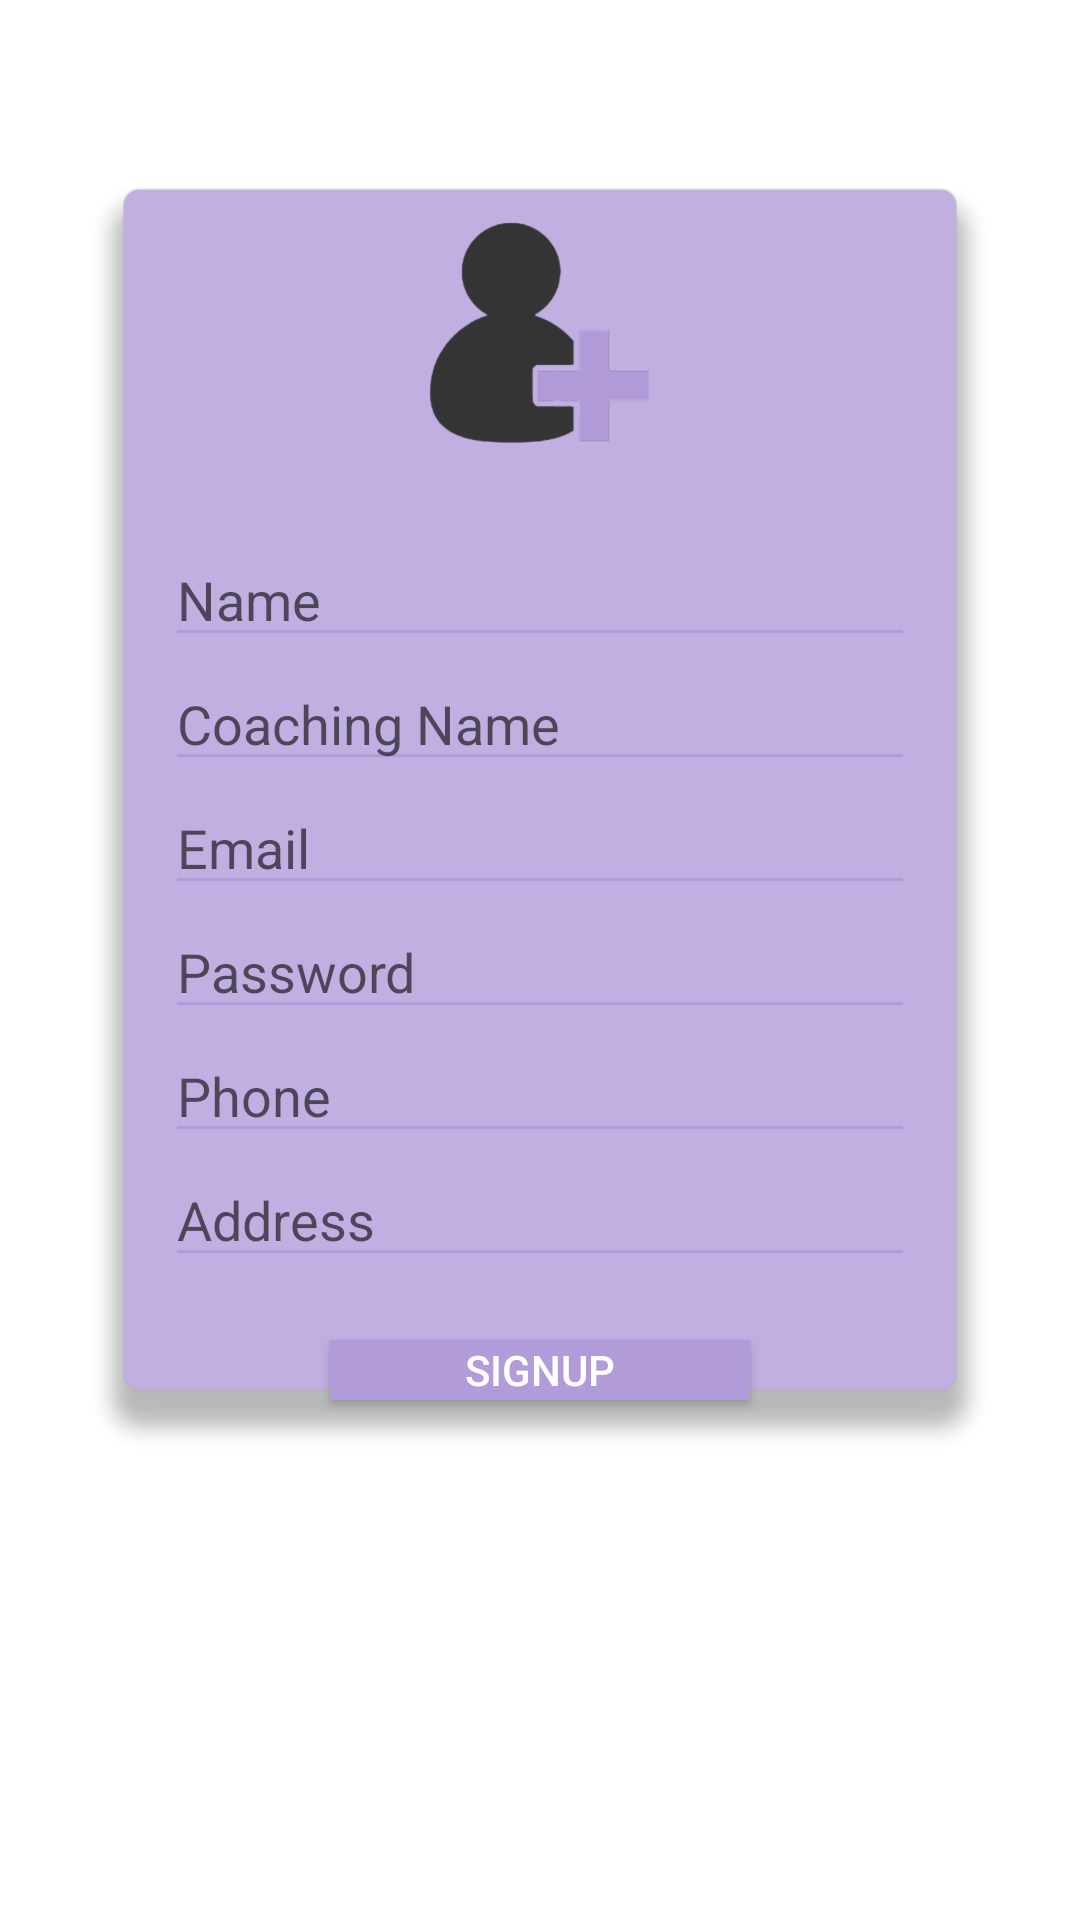

Icon click points for this 1080px×1920px phone screenshot, format [x,y]:
tsingup: [539,333]
